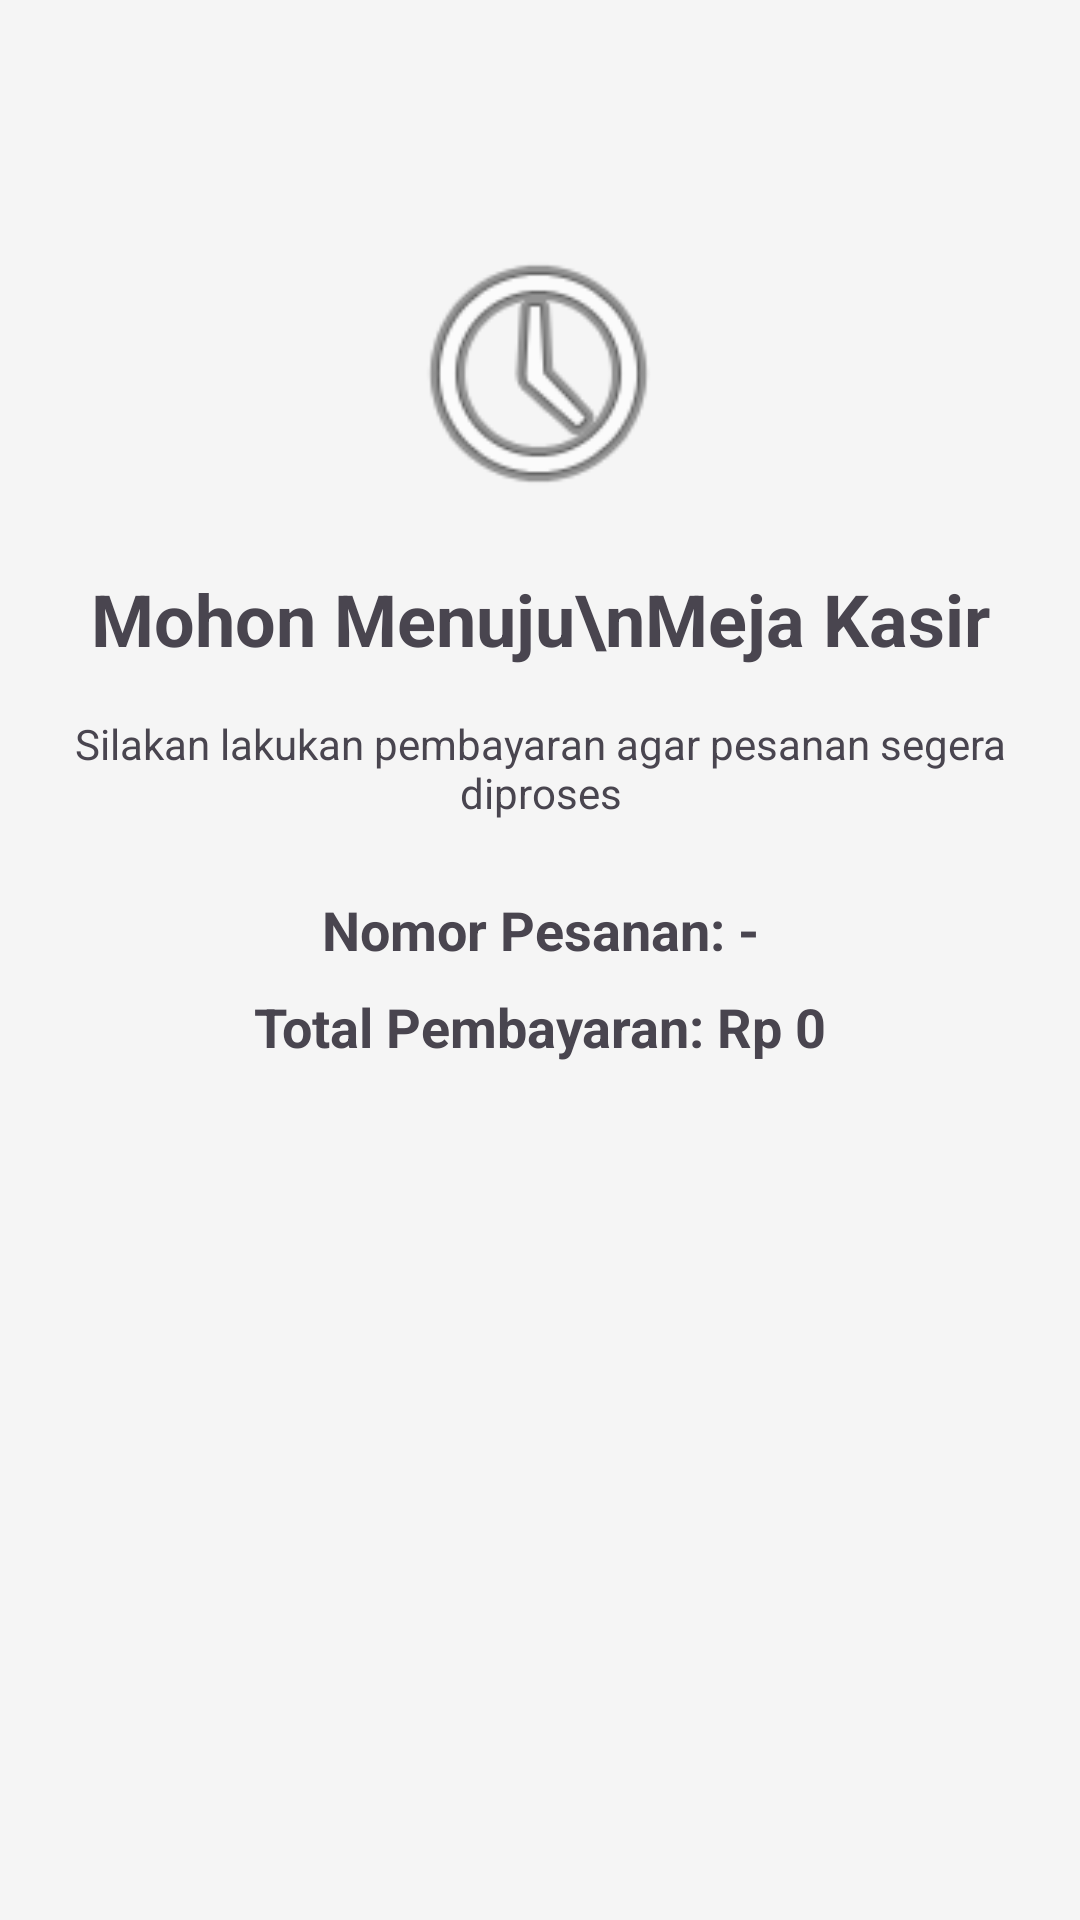

Icons on this 1080x1920 Android screen, each with its box as rect(x1, y1, x2, y2):
recent history: rect(430, 265, 647, 482)
